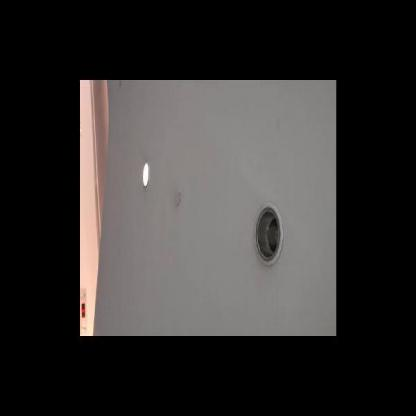light_off: (250, 189, 284, 272)
